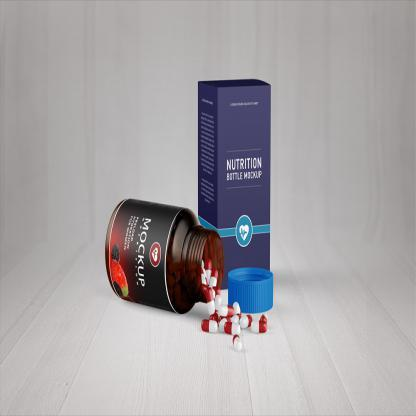jar: (95, 195, 234, 319)
